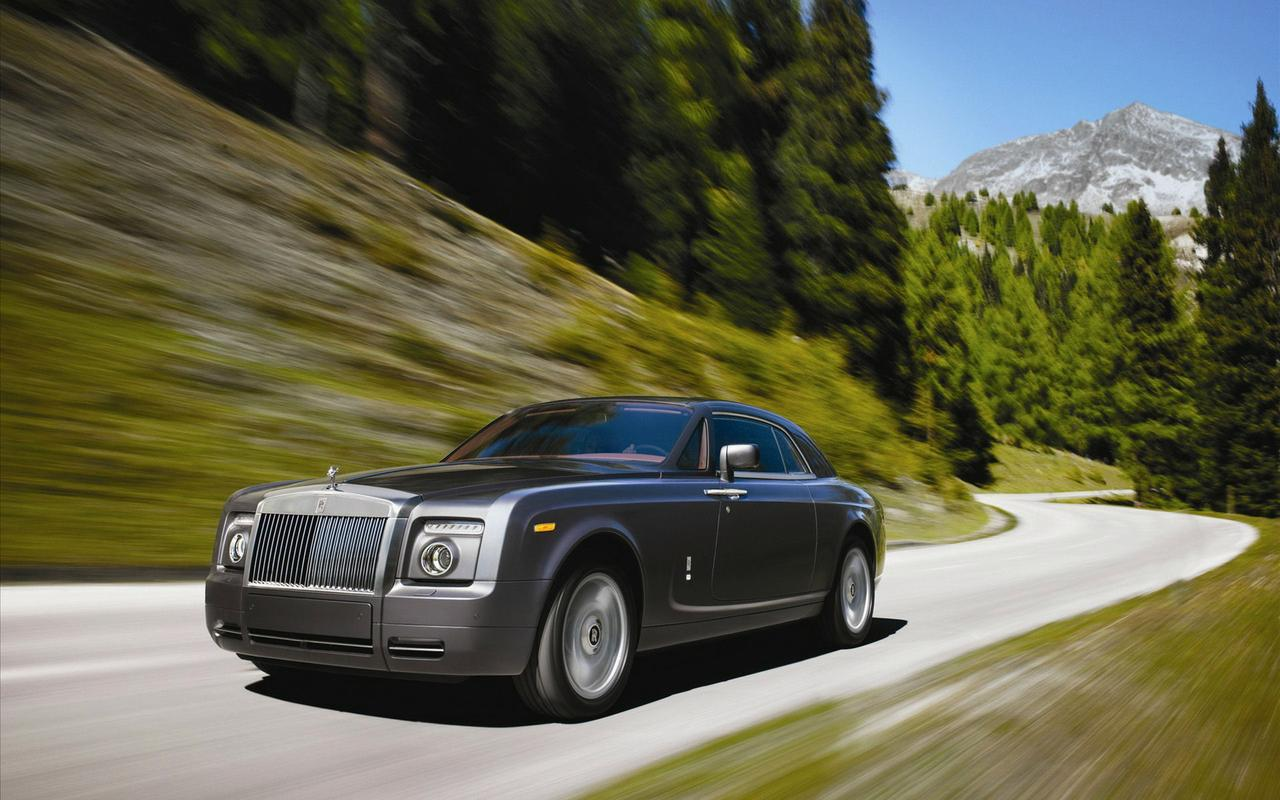汽车: (199, 392, 892, 729)
